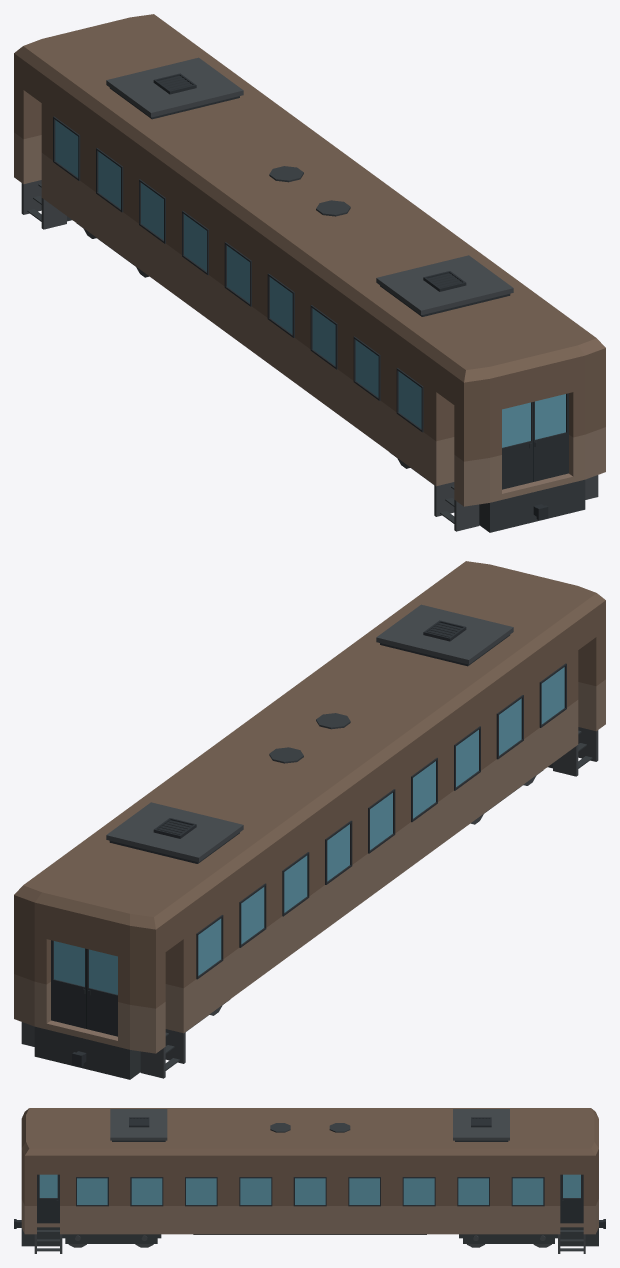
Rendered from Train_02_C1.fbx.
3 views of the same model, one above another, from view 1: azimuth 30°, elevation 25°; view 2: azimuth 150°, elevation 25°; view 3: azimuth 270°, elevation 25° (orthographic). The views are drawn at different scales.
Visible parts, largest first — view 1: Train_02_C1; view 2: Train_02_C1; view 3: Train_02_C1.
Boxes of the visible parts, left/top/right/bottom form: Train_02_C1: left=14, top=14, right=605, bottom=532; Train_02_C1: left=14, top=561, right=605, bottom=1079; Train_02_C1: left=14, top=1108, right=605, bottom=1253.
Size of the model in its own units: 356 by 427 by 1992.
